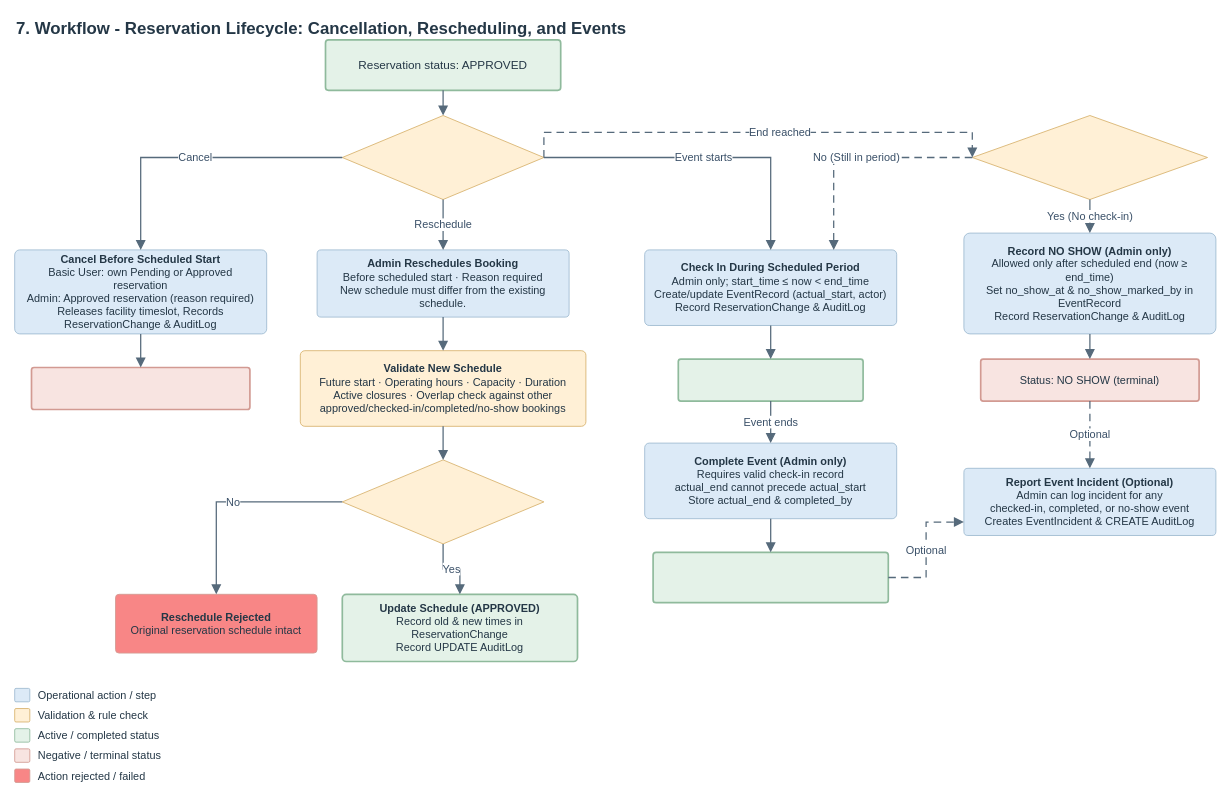
Image size: 1231x798. Some labels were removed from this diagram. Each missing label, with the box of its shape:
Scheduled end reached without check-in?: (971, 115, 1208, 200)
Status: CANCELLED (terminal): (30, 366, 250, 410)
Status: CHECKED IN: (677, 358, 864, 402)
Status: COMPLETED (terminal): (652, 551, 889, 603)
Validation passes?: (341, 459, 544, 544)
Which operational action?: (341, 115, 544, 200)
